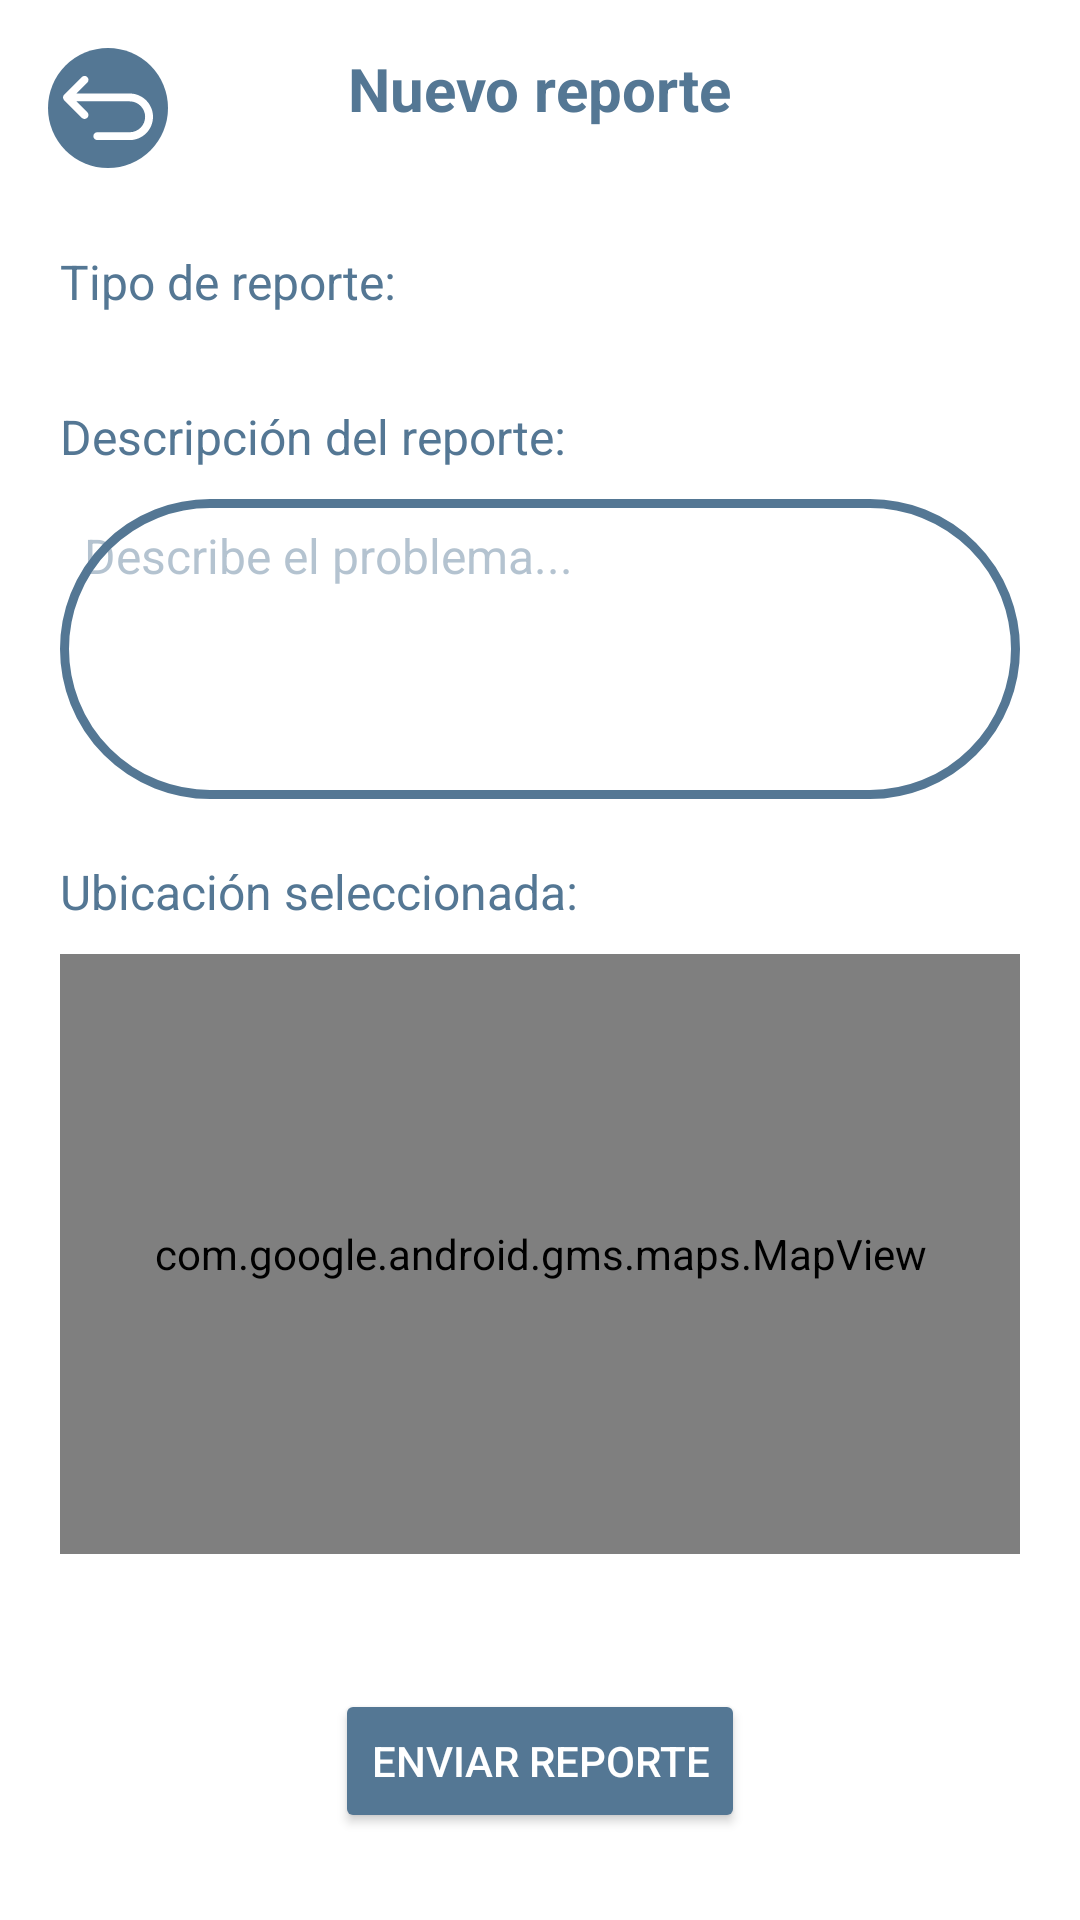

Screen size 1080x1920. Icon name, then its center in pixels as point (x, y):
Regresar: point (108, 108)
